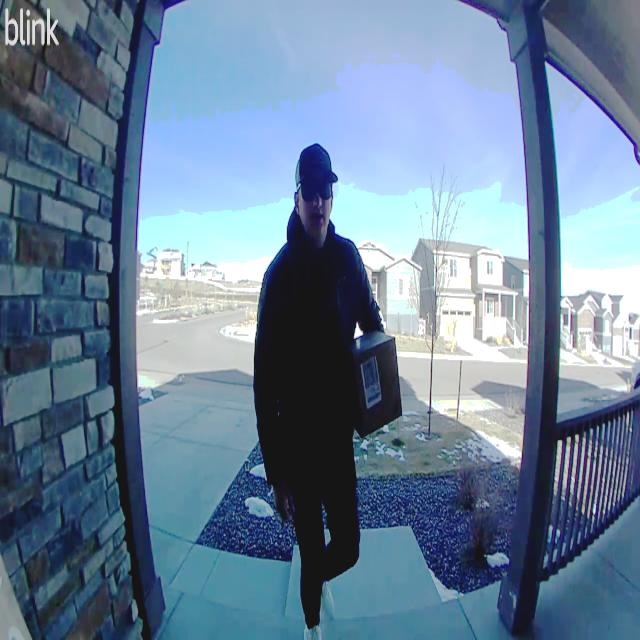Box: (347, 328, 402, 439)
